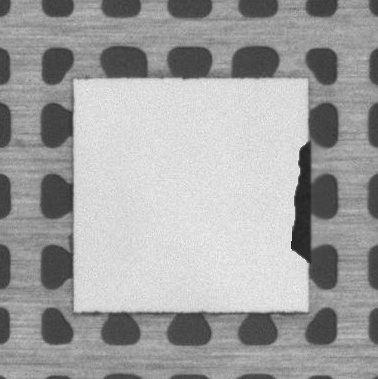DIE_BROKEN: (288, 140, 311, 265)
